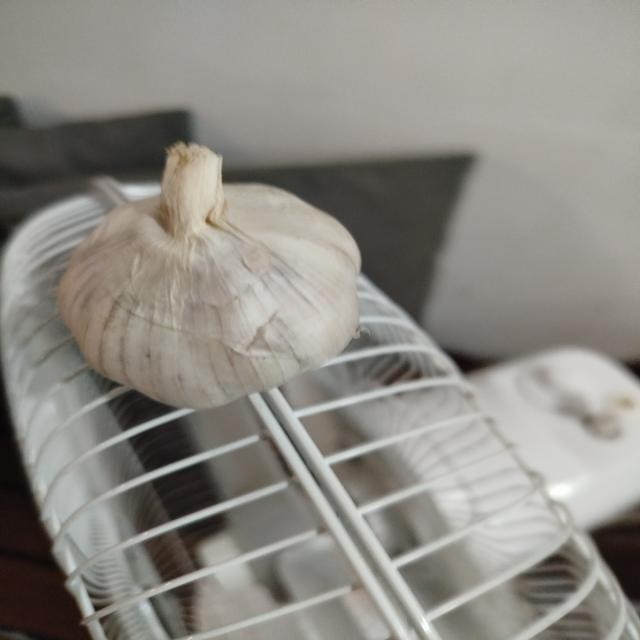garlic: (56, 141, 363, 410)
